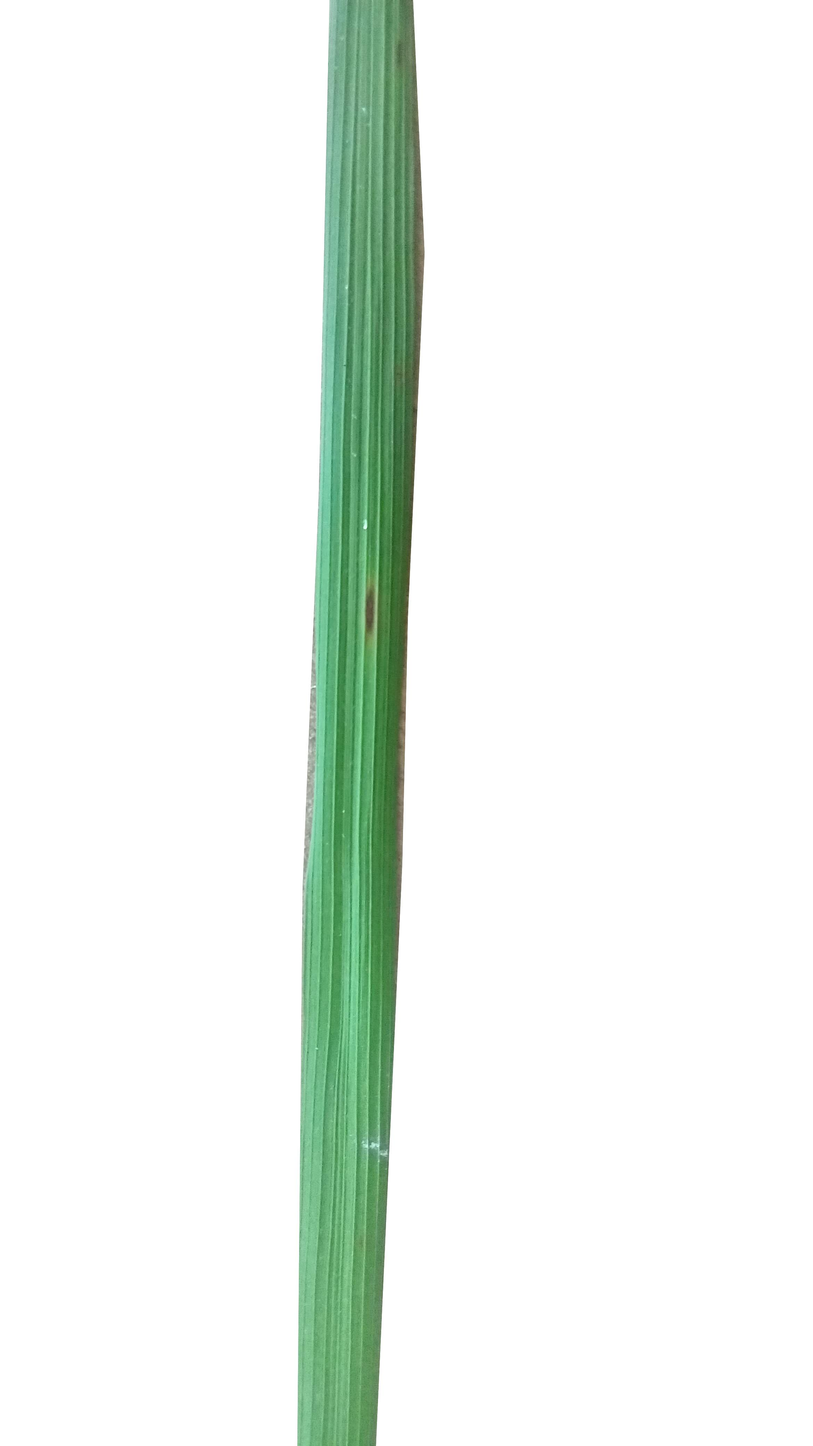Brown spot: (358, 566, 386, 664)
